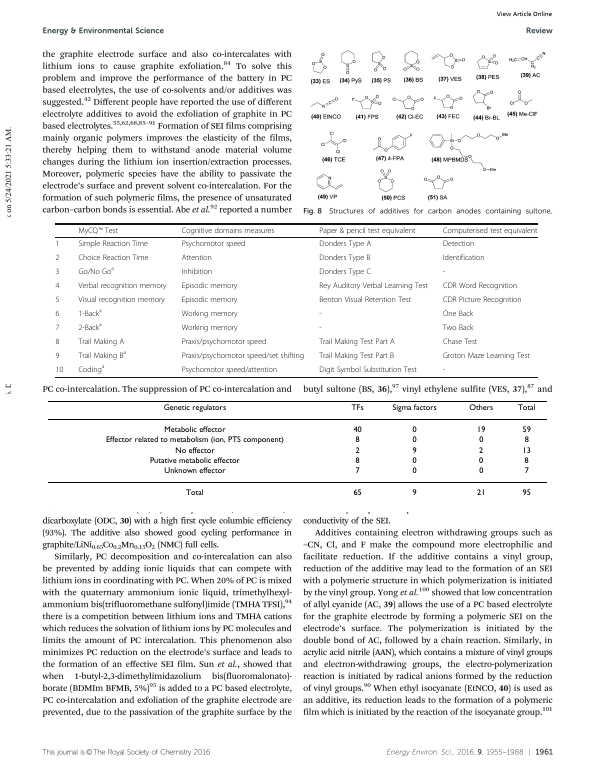borderless: (55, 222, 538, 377), (46, 399, 548, 506)
cell: (104, 436, 284, 446), (181, 351, 305, 361), (318, 281, 429, 291), (318, 365, 418, 375), (181, 365, 278, 375), (318, 295, 412, 305), (148, 456, 240, 466), (77, 281, 167, 291), (77, 295, 166, 305), (442, 351, 531, 361), (318, 226, 416, 235), (442, 226, 538, 235), (181, 337, 267, 347), (181, 226, 275, 235), (442, 295, 523, 305), (318, 337, 396, 347), (318, 351, 395, 361), (442, 281, 518, 291), (77, 239, 149, 249), (77, 253, 149, 263), (162, 403, 227, 413), (181, 239, 246, 249), (77, 349, 127, 361), (181, 309, 239, 319), (181, 323, 239, 333), (181, 281, 238, 291), (181, 295, 238, 305), (163, 426, 226, 435), (163, 467, 226, 476), (318, 239, 372, 249), (318, 267, 372, 277), (318, 253, 371, 263), (77, 337, 125, 347), (391, 403, 437, 413), (77, 265, 115, 277), (442, 253, 485, 263), (174, 446, 215, 456), (77, 226, 119, 235), (442, 337, 478, 347), (77, 363, 105, 375), (442, 239, 475, 249), (181, 253, 213, 263), (181, 267, 213, 277), (442, 309, 474, 319), (442, 323, 474, 333), (77, 307, 103, 319), (77, 321, 103, 333), (468, 403, 494, 413), (516, 403, 536, 413), (185, 489, 204, 499), (350, 403, 364, 413), (521, 446, 531, 456), (352, 489, 362, 499), (476, 489, 486, 499), (521, 489, 531, 499), (352, 426, 362, 435), (476, 426, 486, 435), (521, 426, 531, 435), (55, 365, 64, 375), (354, 436, 360, 446), (411, 436, 417, 446), (478, 436, 484, 446), (523, 436, 529, 446), (354, 446, 360, 456), (411, 446, 417, 456), (478, 446, 484, 456), (354, 456, 360, 466), (411, 456, 417, 466), (478, 456, 484, 466), (523, 456, 529, 466), (411, 489, 417, 499), (54, 239, 60, 249), (54, 253, 60, 263), (54, 267, 60, 277), (411, 426, 417, 435), (354, 467, 360, 476), (411, 467, 417, 476), (478, 467, 484, 476), (523, 467, 529, 476), (55, 281, 60, 291), (55, 295, 60, 305), (55, 309, 60, 319), (318, 309, 323, 319), (55, 323, 60, 333), (318, 323, 323, 333), (55, 337, 60, 347), (55, 351, 60, 361), (442, 267, 446, 277), (442, 365, 446, 375)
